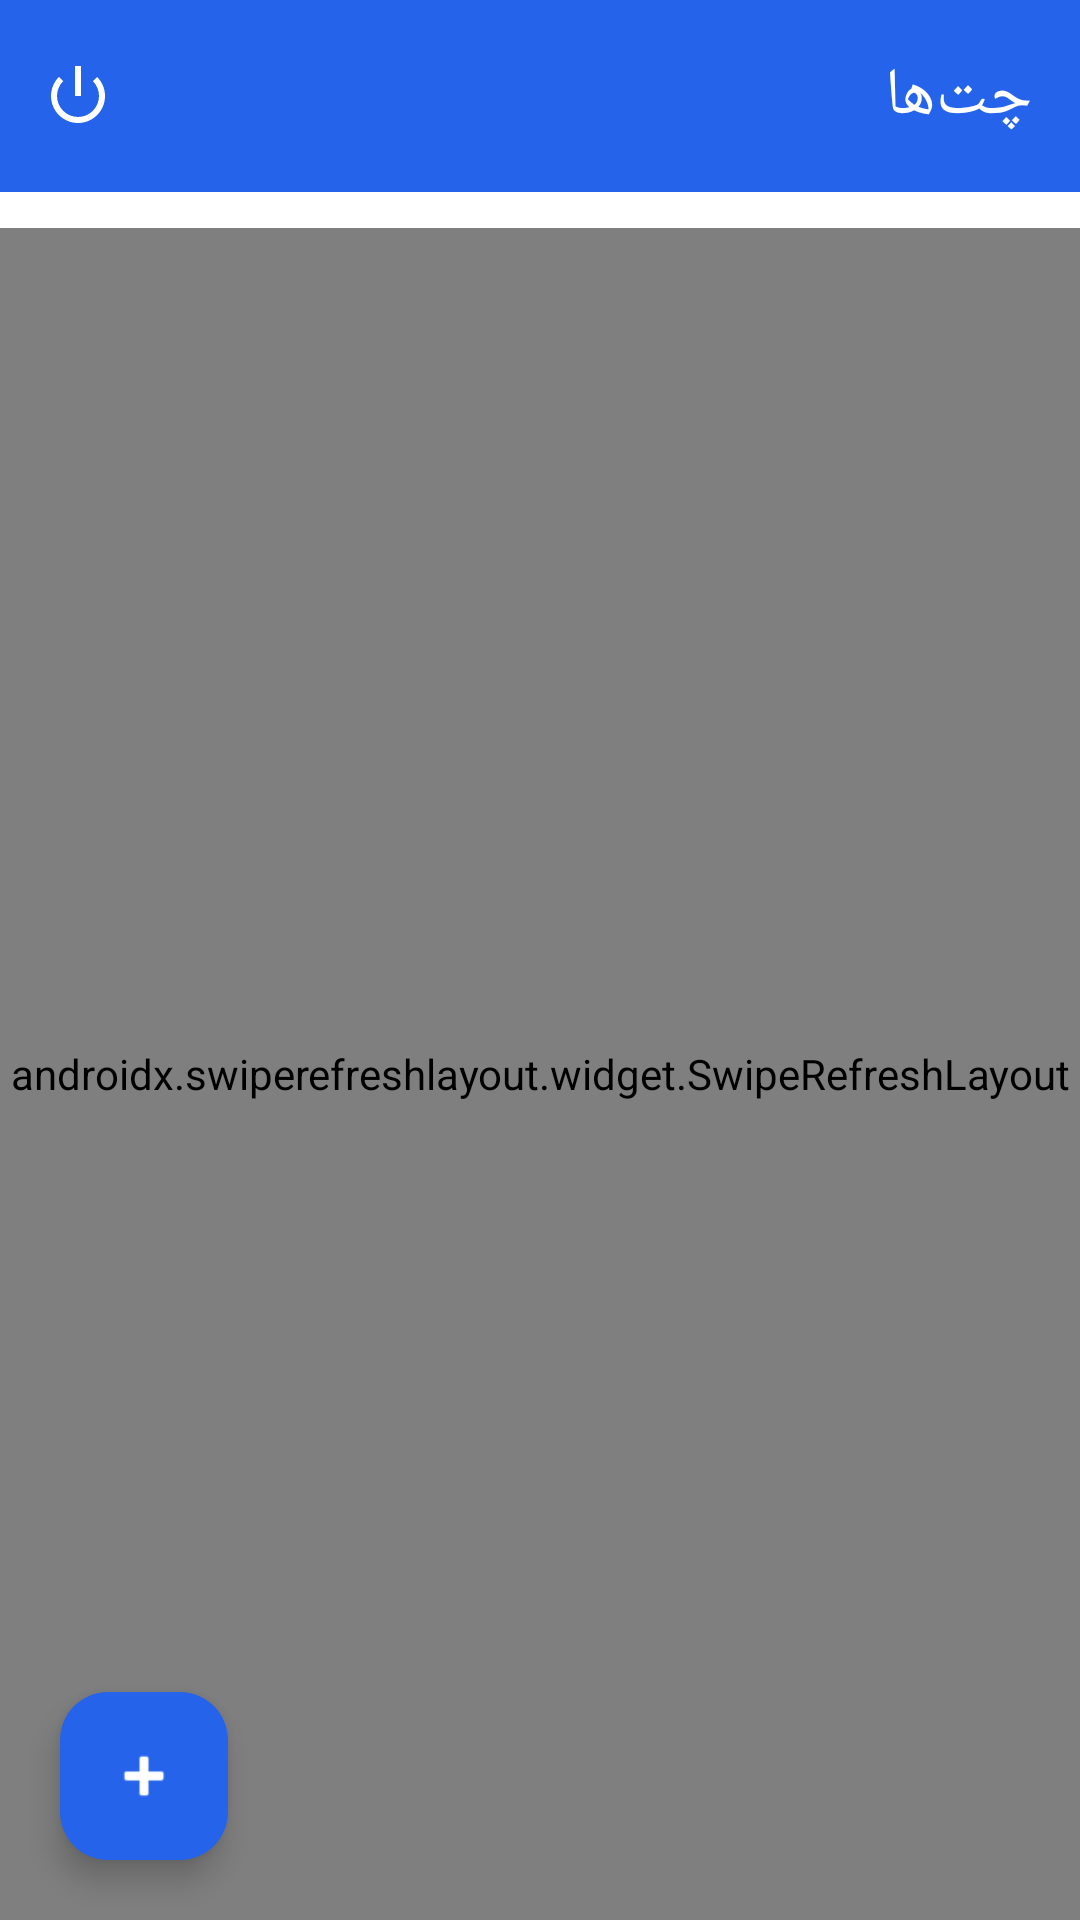

Icons on this 1080×1920 Android screen, each with the point to tap as point (x, y):
خروج: point (78, 94)
چت جدید: point (144, 1776)
